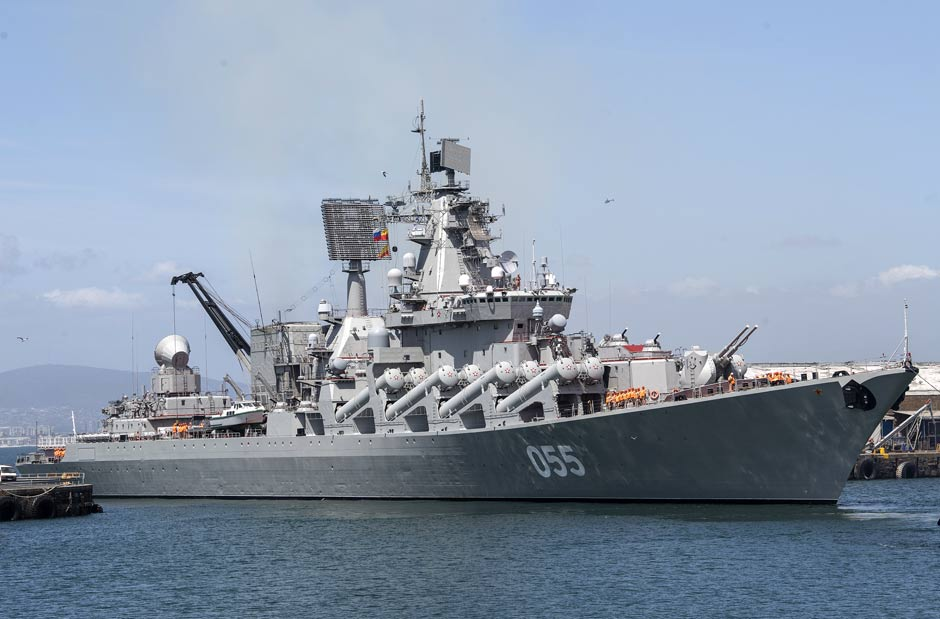warship: (35, 106, 922, 507)
